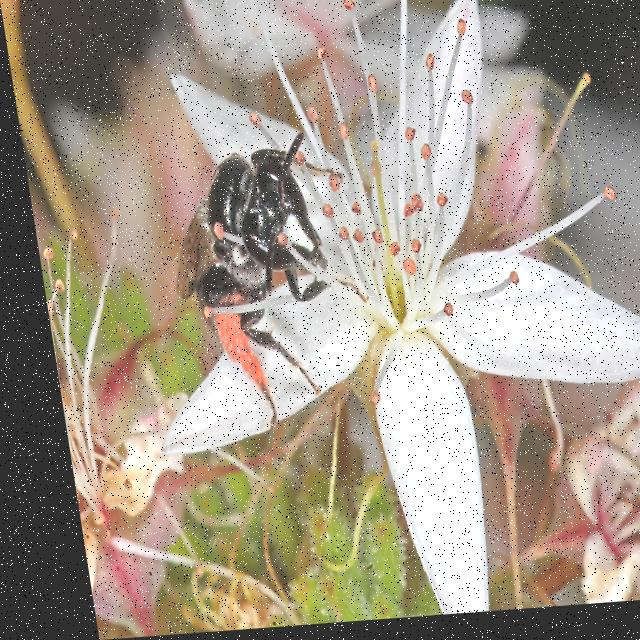Braunsapis: (138, 136, 358, 454)
